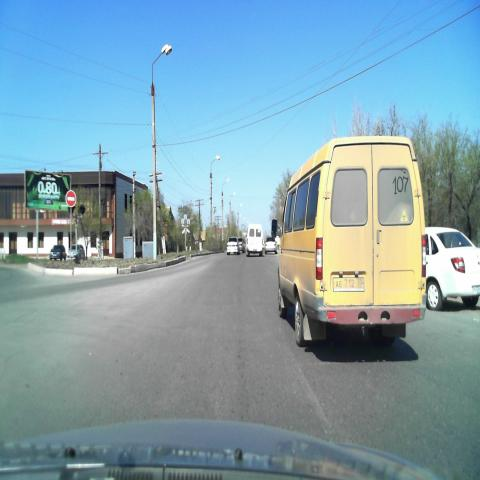3_1: (64, 189, 78, 211)
